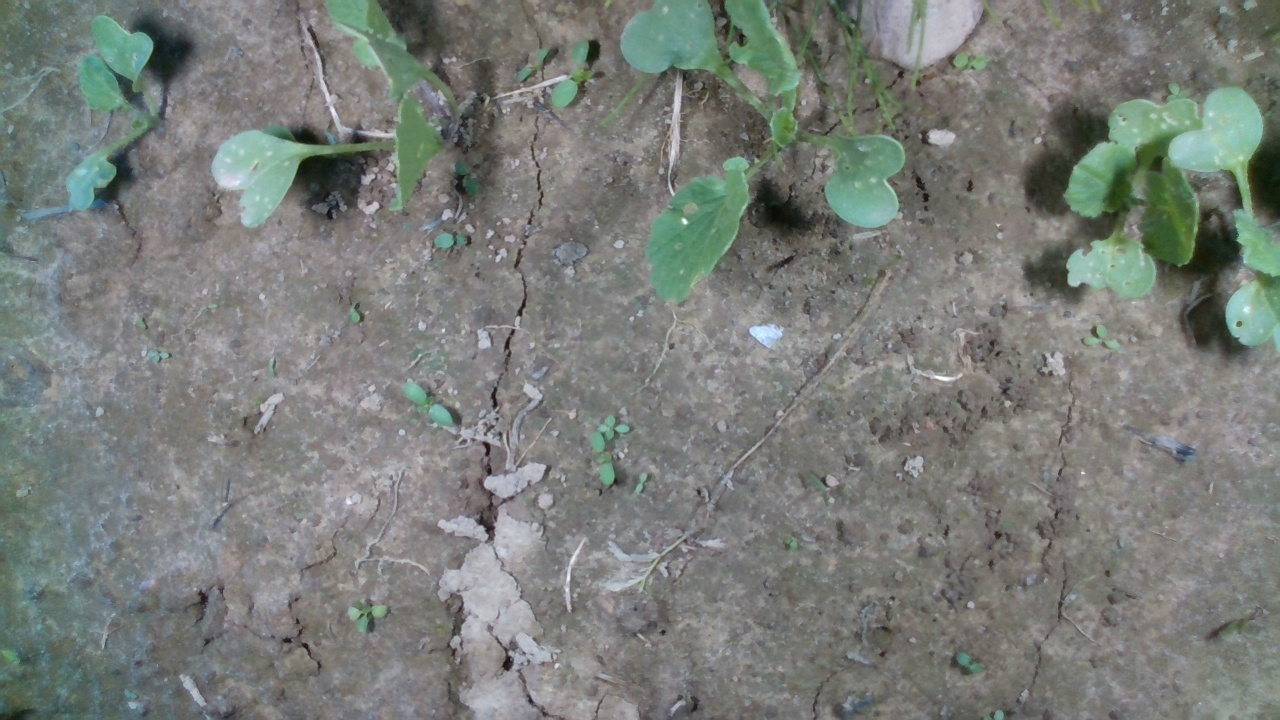weed: (550, 38, 594, 109), (400, 380, 454, 427), (345, 600, 390, 634), (512, 43, 552, 81), (1079, 322, 1121, 350), (429, 228, 470, 250), (954, 649, 986, 674), (345, 304, 366, 326), (633, 471, 649, 496), (146, 349, 172, 364), (781, 536, 800, 550)
